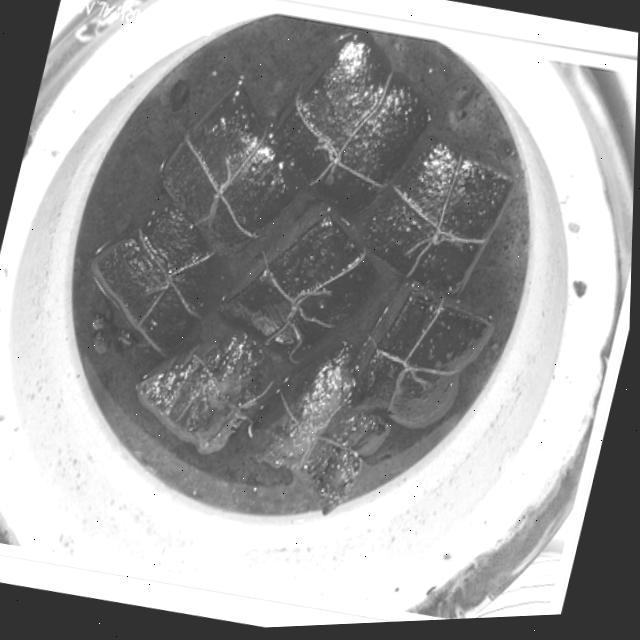牛肉菜式: (61, 17, 558, 548)
